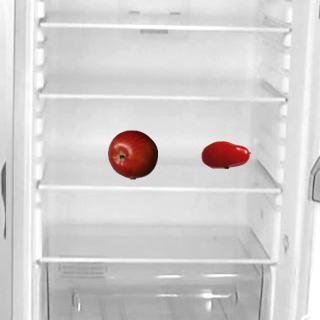Apple Braeburn: (107, 129, 157, 179)
Tomato 2: (200, 129, 250, 179)
